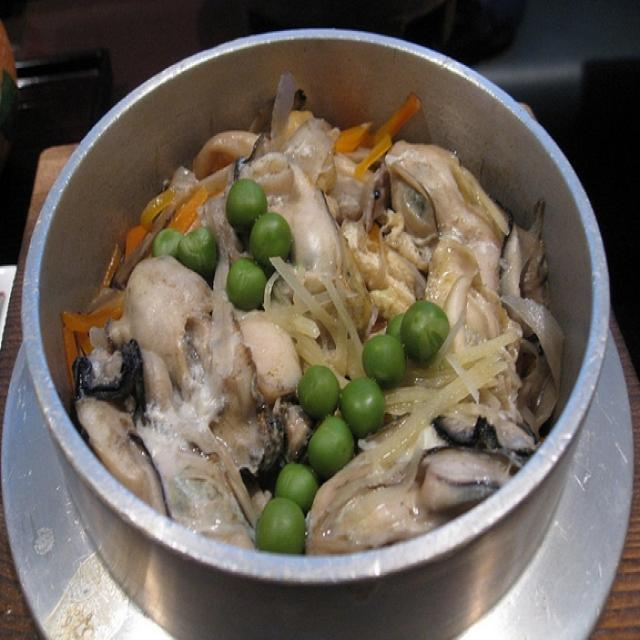汤锅炖物: (13, 0, 639, 640)
